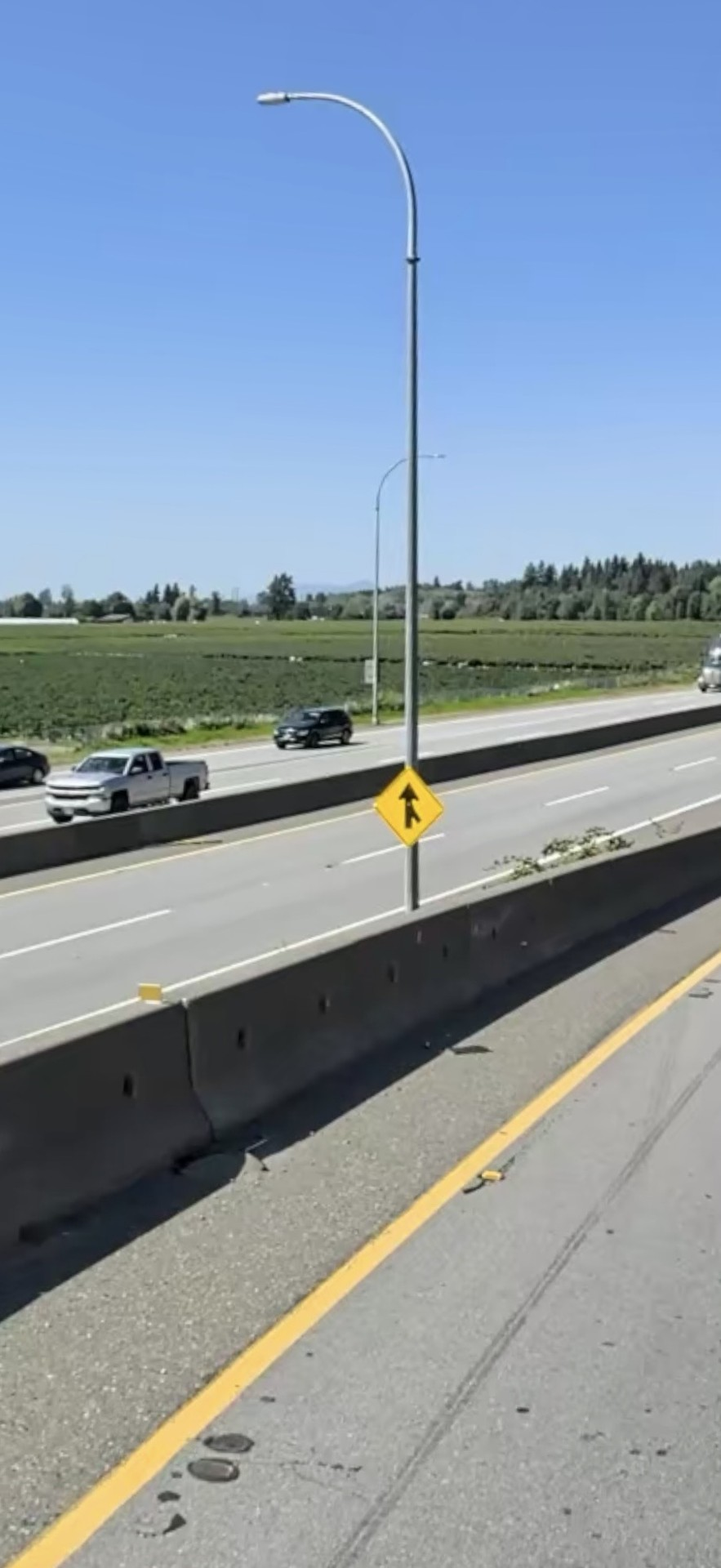merge: (361, 729, 464, 876)
